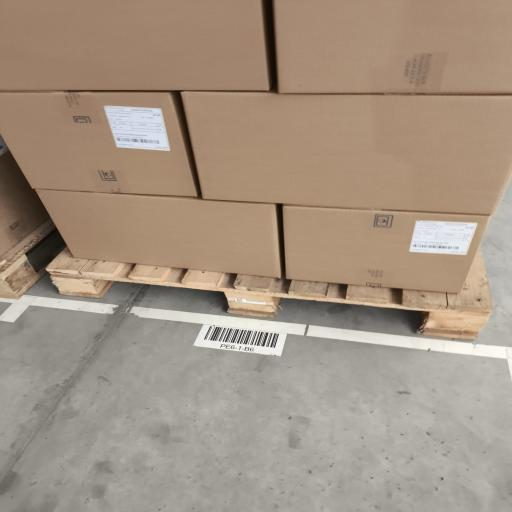pallet: (48, 249, 492, 339), (0, 220, 64, 298)
